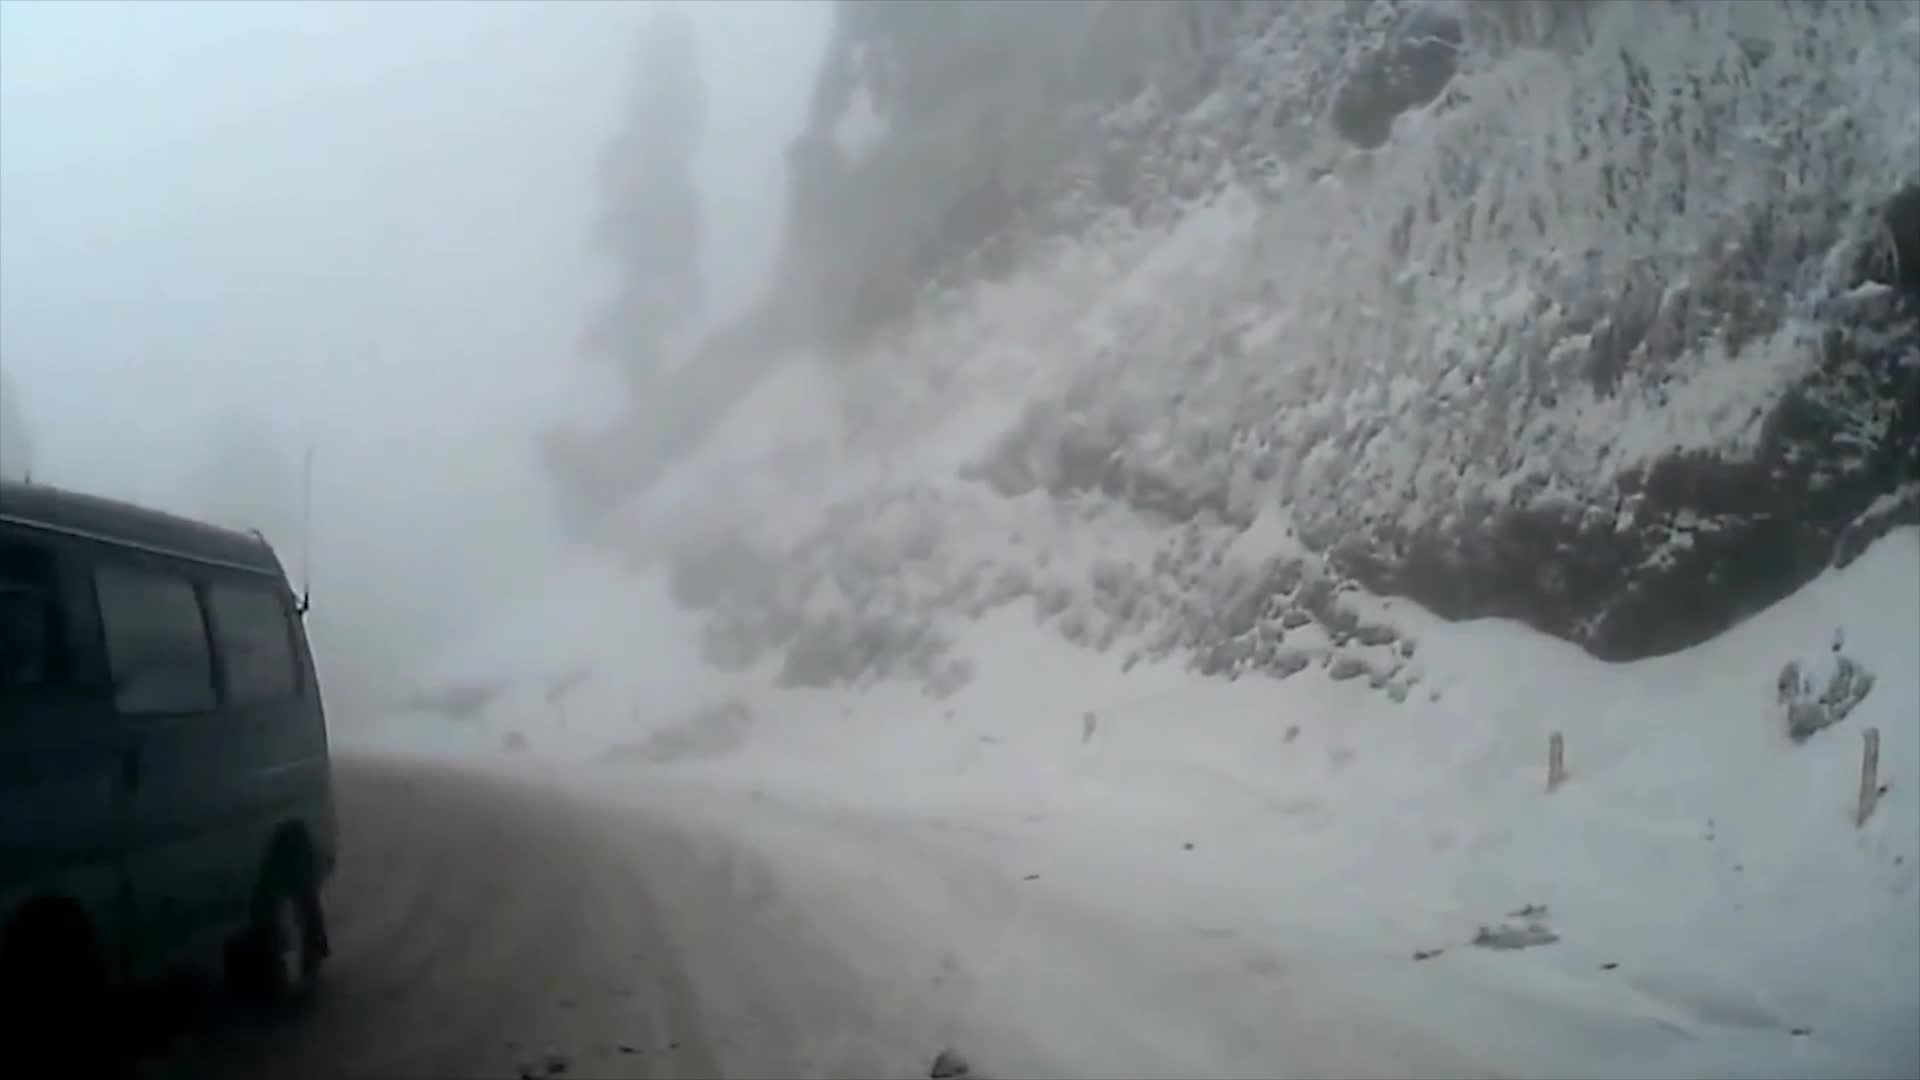vehicle: (0, 476, 338, 1080)
